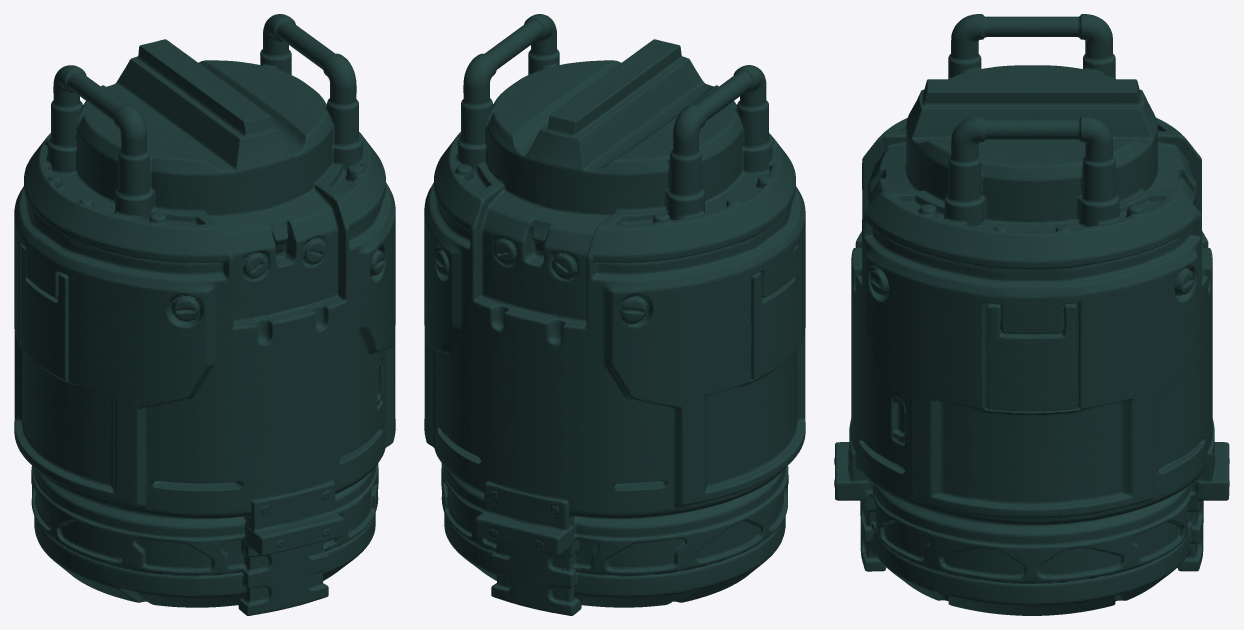
Rendered from battery.glb.
3 views of the same model, side by side, from view 1: azimuth 30°, elevation 25°; view 2: azimuth 150°, elevation 25°; view 3: azimuth 270°, elevation 25° (orthographic).
Parts seen in each view (by area): view 1: mesh_node; view 2: mesh_node; view 3: mesh_node.
Boxes of the visible parts, <box> form: mesh_node: <box>14,14,395,615</box>; mesh_node: <box>424,14,805,615</box>; mesh_node: <box>834,14,1229,615</box>.
Size of the model in its own units: 1.36 by 1.9 by 1.4.
